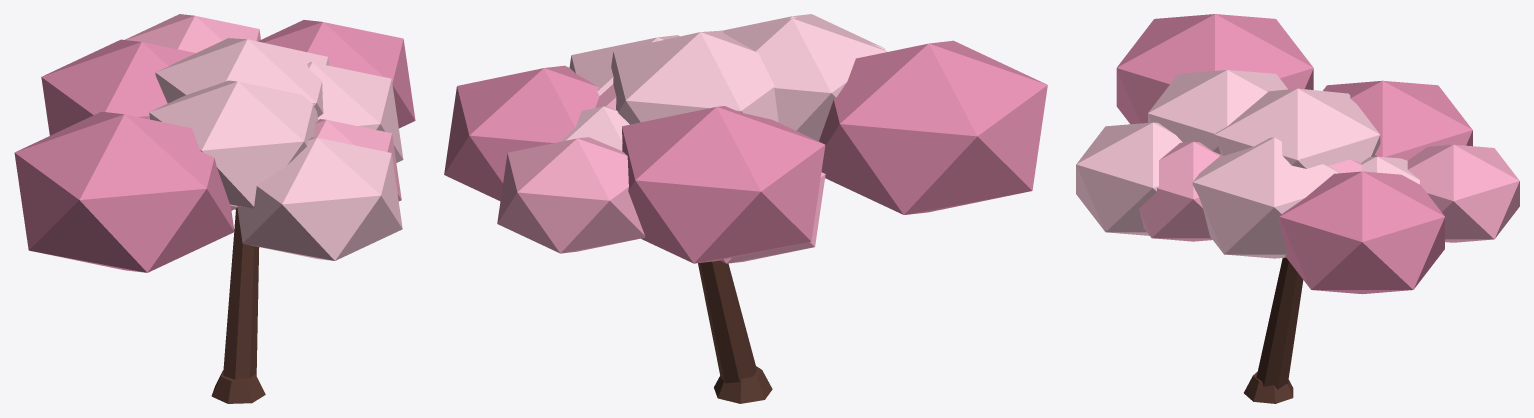
Rendered from Sakura_B.fbx.
3 views of the same model, side by side, from view 1: azimuth 30°, elevation 25°; view 2: azimuth 150°, elevation 25°; view 3: azimuth 270°, elevation 25° (orthographic). The views are drawn at different scales.
Visible parts, largest first — view 1: Sakura_B; view 2: Sakura_B; view 3: Sakura_B.
Boxes of the visible parts, x1,y1,x2,y2 form: Sakura_B: (14, 14, 415, 403); Sakura_B: (444, 14, 1047, 403); Sakura_B: (1076, 14, 1519, 403).
Size of the model in its own units: 6.35 by 4.55 by 5.74.
